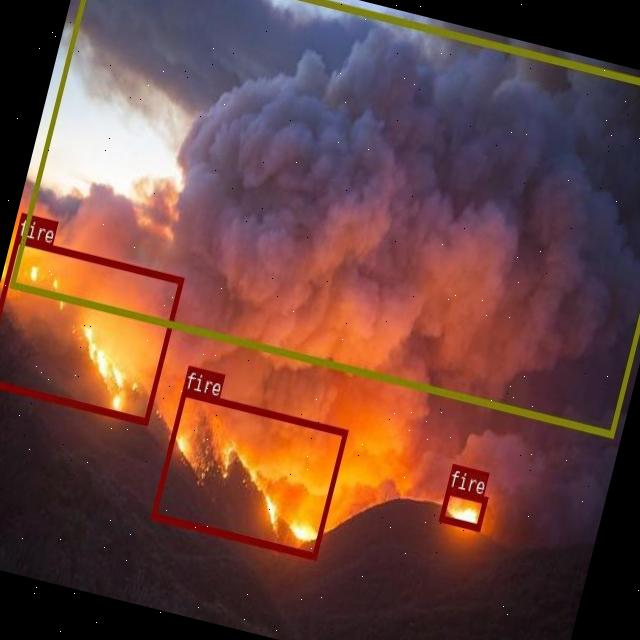fire: (0, 234, 183, 423), (150, 388, 346, 558), (438, 486, 488, 530)
smoke: (8, 0, 640, 436)
